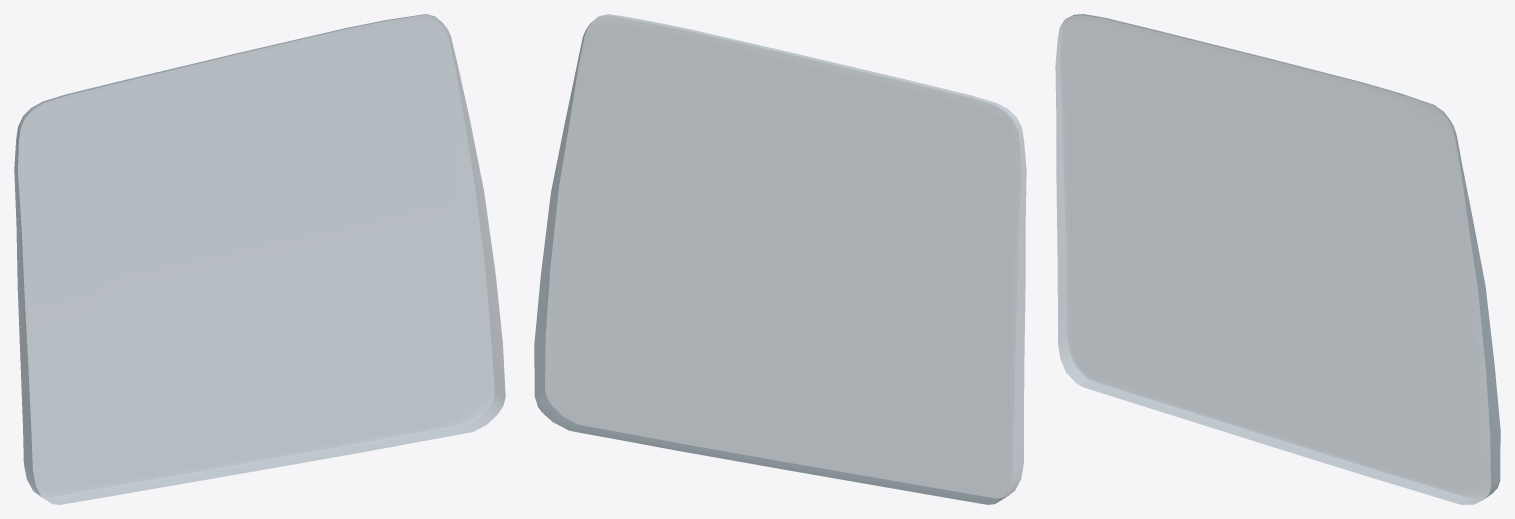
The picture shows the model from 3 angles, left to right: view 1: azimuth 30°, elevation 25°; view 2: azimuth 150°, elevation 25°; view 3: azimuth 330°, elevation 25°; orthographic projection. The views are drawn at different scales.
Parts seen in each view (by area): view 1: SM_ActrosFiretruck_Door_FR_Glass_Ext2; view 2: SM_ActrosFiretruck_Door_FR_Glass_Ext2; view 3: SM_ActrosFiretruck_Door_FR_Glass_Ext2.
Part boxes in pixels (x1,y1,x2,y2): SM_ActrosFiretruck_Door_FR_Glass_Ext2: [14, 14, 505, 504]; SM_ActrosFiretruck_Door_FR_Glass_Ext2: [534, 14, 1026, 504]; SM_ActrosFiretruck_Door_FR_Glass_Ext2: [1055, 14, 1500, 504].
Bounding box in the file's own units: 0.9689 × 0.8219 × 0.0448.
